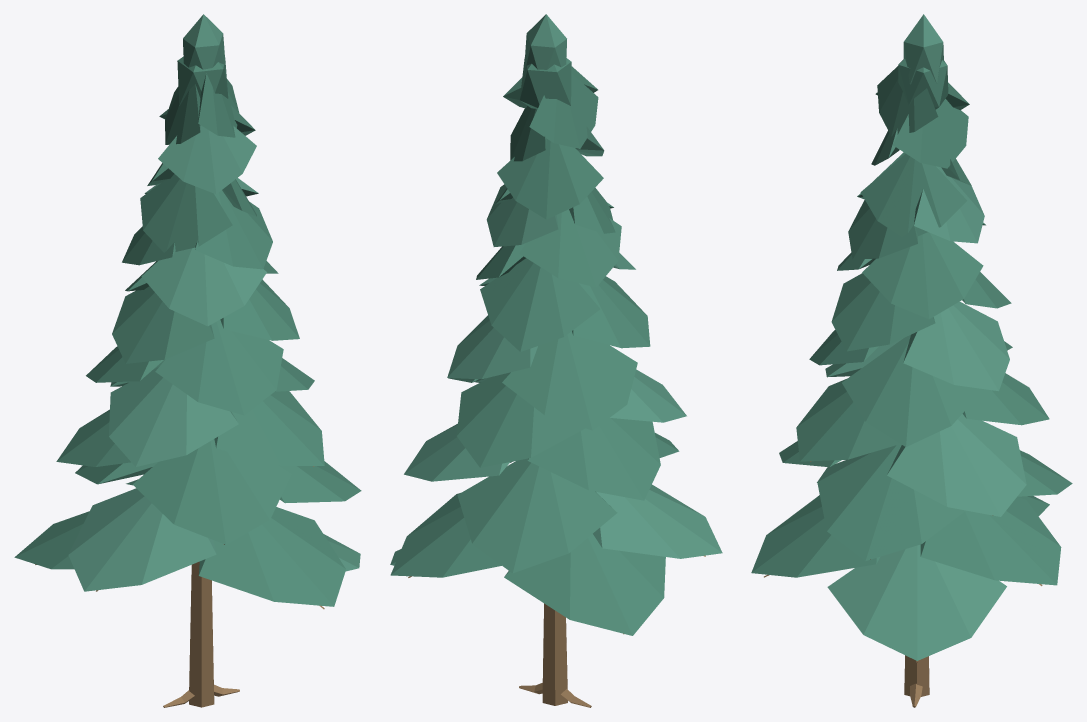
The model's file is conifer_01.glb.
The picture shows the model from 3 angles, left to right: view 1: azimuth 30°, elevation 25°; view 2: azimuth 150°, elevation 25°; view 3: azimuth 270°, elevation 25°; orthographic projection.
Visible parts, largest first — view 1: Conifer_01; view 2: Conifer_01; view 3: Conifer_01.
Part boxes in pixels (bbox=[...]): Conifer_01: bbox=[14, 14, 361, 707]; Conifer_01: bbox=[390, 14, 722, 707]; Conifer_01: bbox=[751, 14, 1072, 707].
Bounding box in the file's own units: 7.39 × 16.03 × 6.86.
